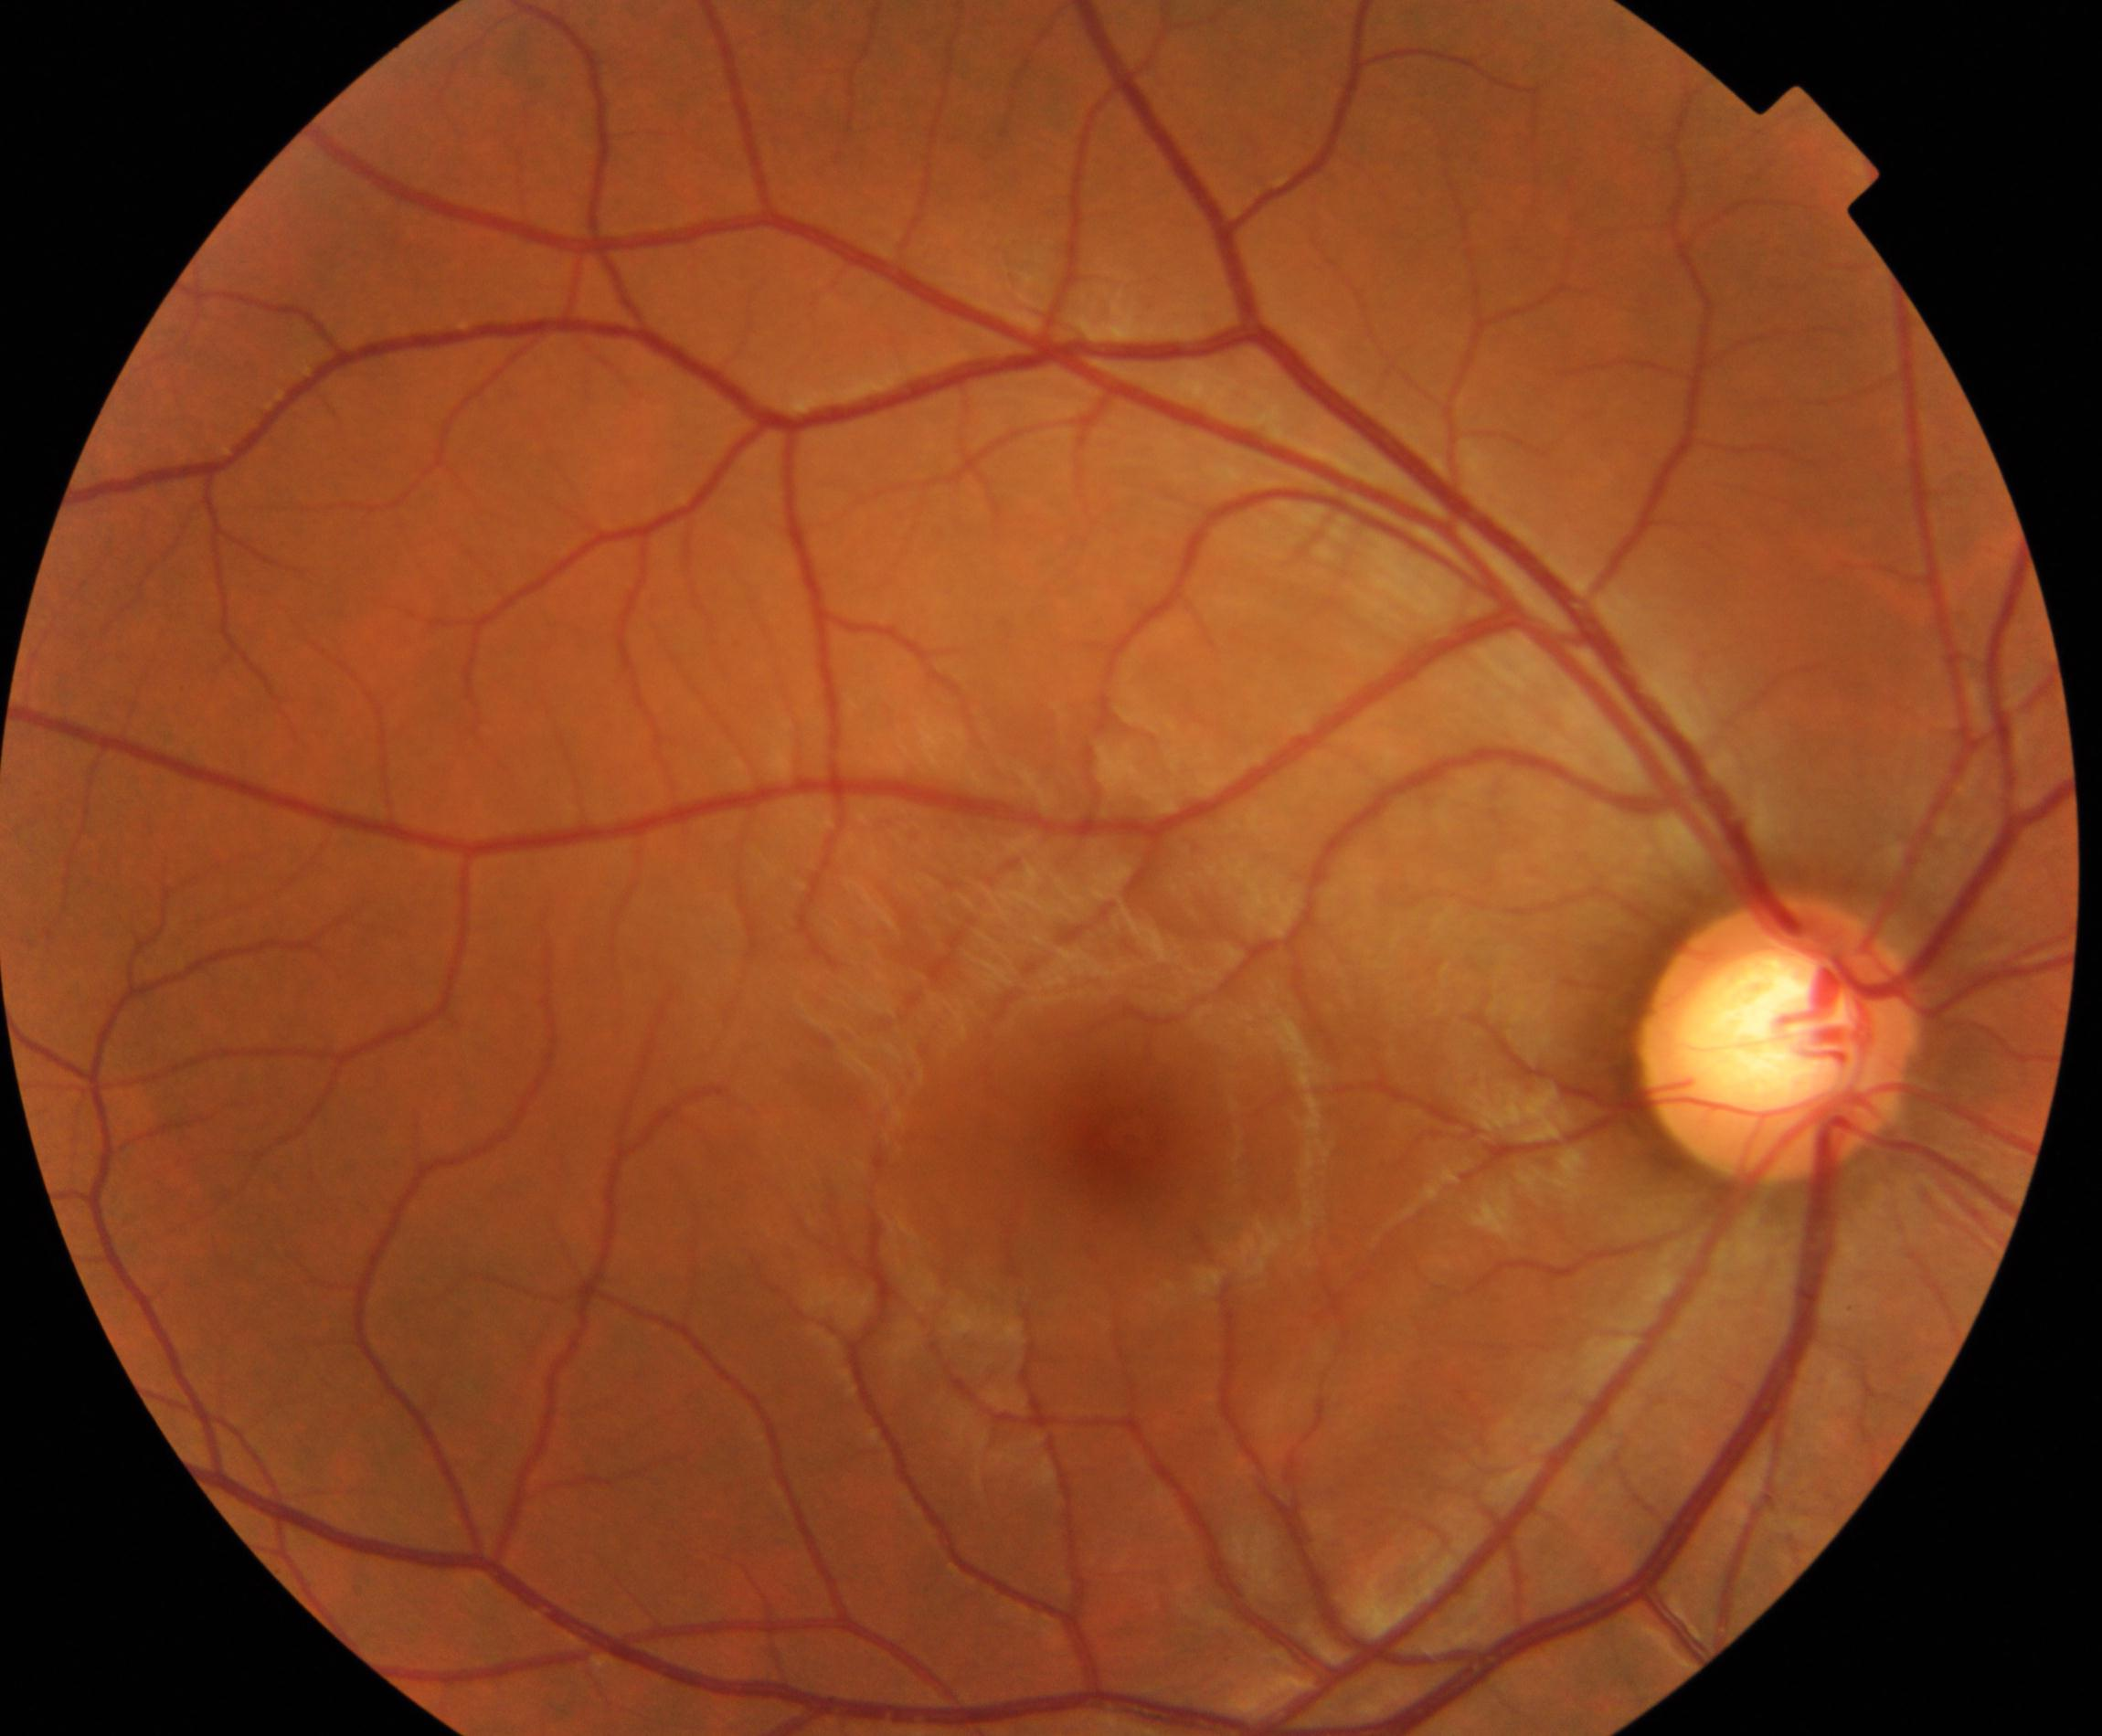Glaucoma section-1: (1700, 968, 1861, 1122)
Glaucoma section-2: (1638, 893, 1933, 1190)
